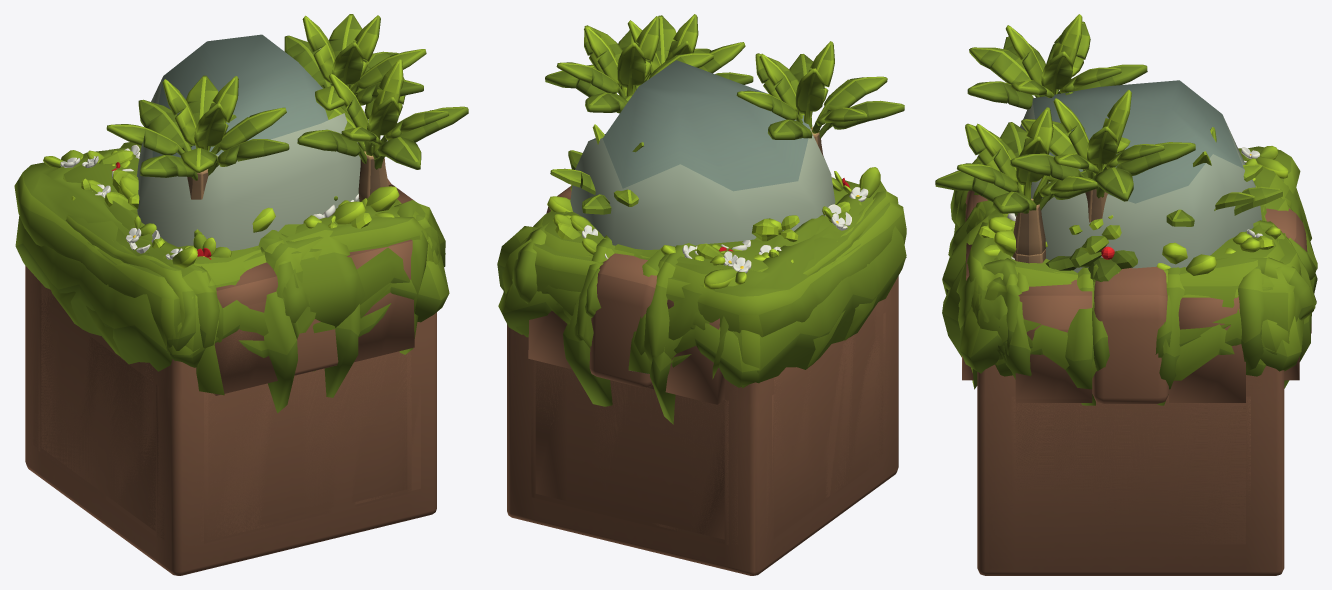
File: Spring_Cubes.fbx
The picture shows the model from 3 angles, left to right: view 1: azimuth 30°, elevation 25°; view 2: azimuth 150°, elevation 25°; view 3: azimuth 270°, elevation 25°; orthographic projection. The views are drawn at different scales.
Parts seen in each view (by area): view 1: Spring4, Spring1, Spring_Cube_03.004, Spring9, Spring_Cube11.001, Spring2, Tree_Spring.006, Spring_Cube5.001, Tree_Spring, Spring3, Spring_Cube10.002, Spring_Cube12.001 (+19 smaller); view 2: Spring_Cube_03.004, Spring1, Spring4, Spring_Cube11.001, Spring2, Spring_Cube5.001, Tree_Spring.006, Spring6, Tree_Spring.008, Road.001, Spring9, Spring_Cube10.002 (+15 smaller); view 3: Spring4, Spring9, Spring_Cube_03.004, Spring1, Spring2, Road.001, Tree_Spring, Tree_Spring.008, Tree_Spring.006, Spring_Cube10.002, Spring_Cube11.001, Spring_Cube4.002 (+17 smaller).
Boxes of the visible parts, <box> form: Spring4: <box>25,266,436,575</box>; Spring1: <box>41,283,407,537</box>; Spring_Cube_03.004: <box>137,34,360,250</box>; Spring9: <box>28,269,430,566</box>; Spring_Cube11.001: <box>14,147,286,348</box>; Spring2: <box>38,299,411,542</box>; Tree_Spring.006: <box>106,75,289,199</box>; Spring_Cube5.001: <box>15,216,441,395</box>; Tree_Spring: <box>297,59,468,201</box>; Spring3: <box>38,300,411,543</box>; Spring_Cube10.002: <box>57,150,439,342</box>; Spring_Cube12.001: <box>163,200,445,354</box>; Spring_Cube_03.004: <box>570,60,835,249</box>; Spring1: <box>535,306,883,534</box>; Spring4: <box>507,276,898,575</box>; Spring_Cube11.001: <box>497,181,906,337</box>; Spring2: <box>534,312,885,544</box>; Spring_Cube5.001: <box>516,198,906,388</box>; Tree_Spring.006: <box>736,41,904,156</box>; Spring6: <box>571,336,854,539</box>; Tree_Spring.008: <box>545,16,713,112</box>; Road.001: <box>546,186,656,387</box>; Spring9: <box>513,281,895,565</box>; Spring_Cube10.002: <box>525,198,875,340</box>; Spring4: <box>977,364,1284,575</box>; Spring9: <box>989,366,1272,568</box>; Spring_Cube_03.004: <box>1015,80,1261,272</box>; Spring1: <box>1015,396,1245,544</box>; Spring2: <box>1010,396,1250,548</box>; Road.001: <box>1092,208,1311,403</box>; Tree_Spring: <box>935,107,1104,263</box>; Tree_Spring.008: <box>1010,89,1195,222</box>; Tree_Spring.006: <box>967,14,1147,109</box>; Spring_Cube10.002: <box>948,154,1302,375</box>; Spring_Cube11.001: <box>950,146,1301,372</box>; Spring_Cube4.002: <box>959,203,1315,379</box>.
Size of the model in its own units: 124 by 165 by 125.
